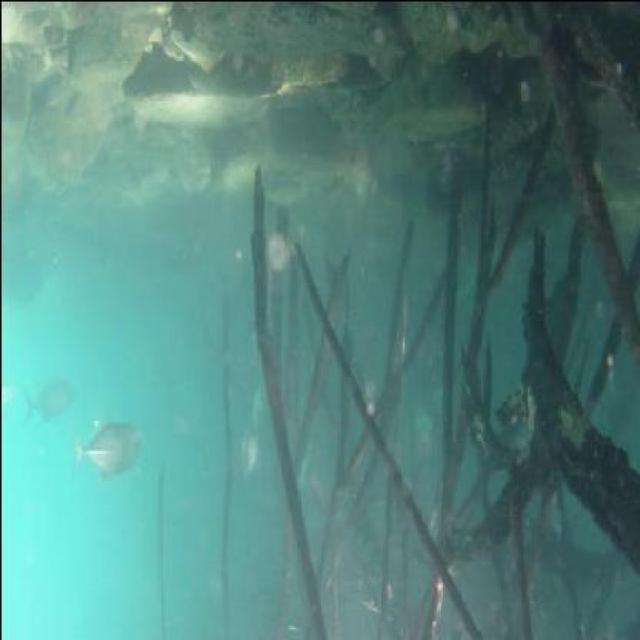Caranx_sexfasciatus_juvenile: (73, 408, 139, 484), (18, 368, 73, 430), (232, 429, 258, 483), (248, 375, 269, 440)
